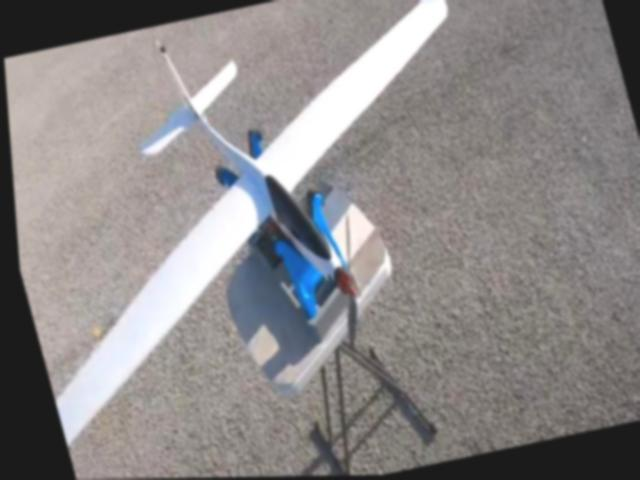iha: (0, 0, 539, 452)
